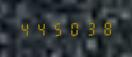eight: (98, 19, 113, 36)
five: (50, 20, 65, 37)
four: (17, 20, 32, 37), (33, 20, 48, 37)
three: (82, 19, 97, 36)
zero: (66, 20, 81, 36)
